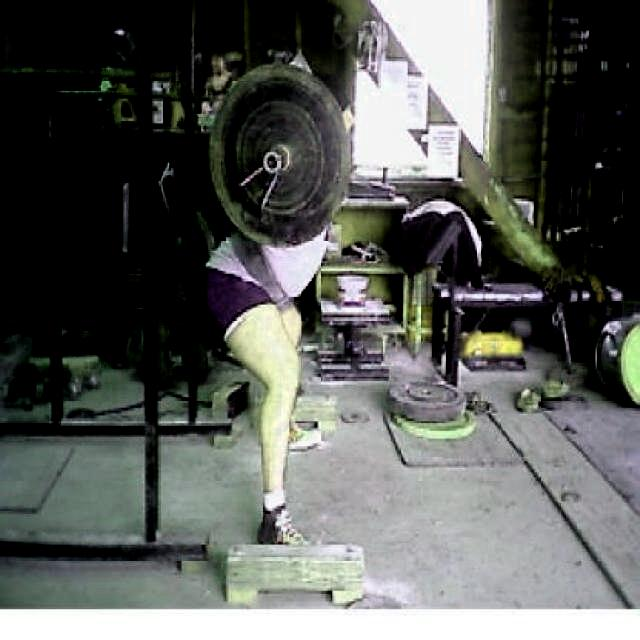barbell: (198, 53, 355, 252)
